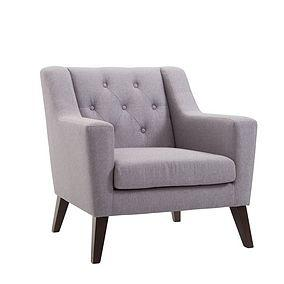chair: (25, 49, 277, 266)
